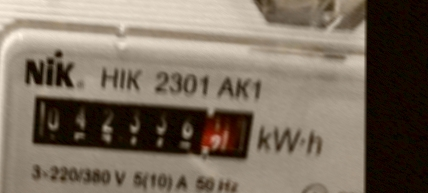0: (45, 103, 58, 132)
2: (97, 105, 115, 132)
3: (124, 105, 140, 134), (153, 107, 167, 135)
4: (71, 104, 87, 131)
6: (178, 113, 193, 140)
screen: (20, 86, 260, 168)
